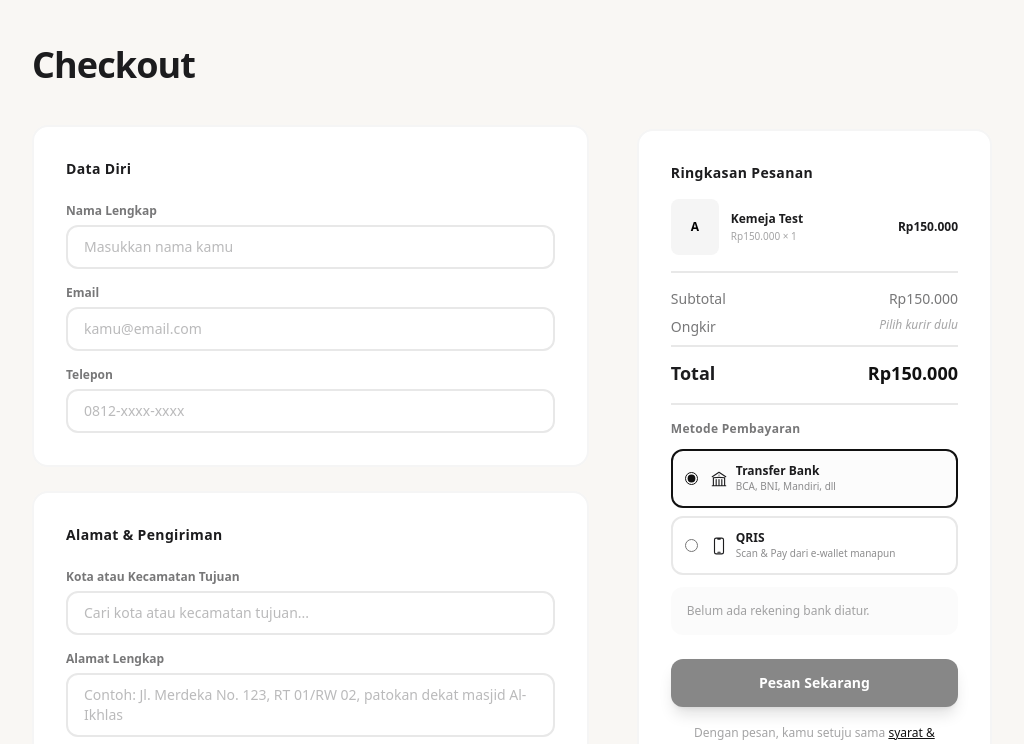
Test: CheckoutPage — Autocomplete Search › menampilkan tombol WhatsApp saat manual:true dari backend
The image size is (1024, 744).
Type "jakarta" into the field with placeholder "Cari kota atau kecamatan tujuan...".
click(310, 613); type("jakarta")  # box [66,591,555,635]
Wait 400 ms
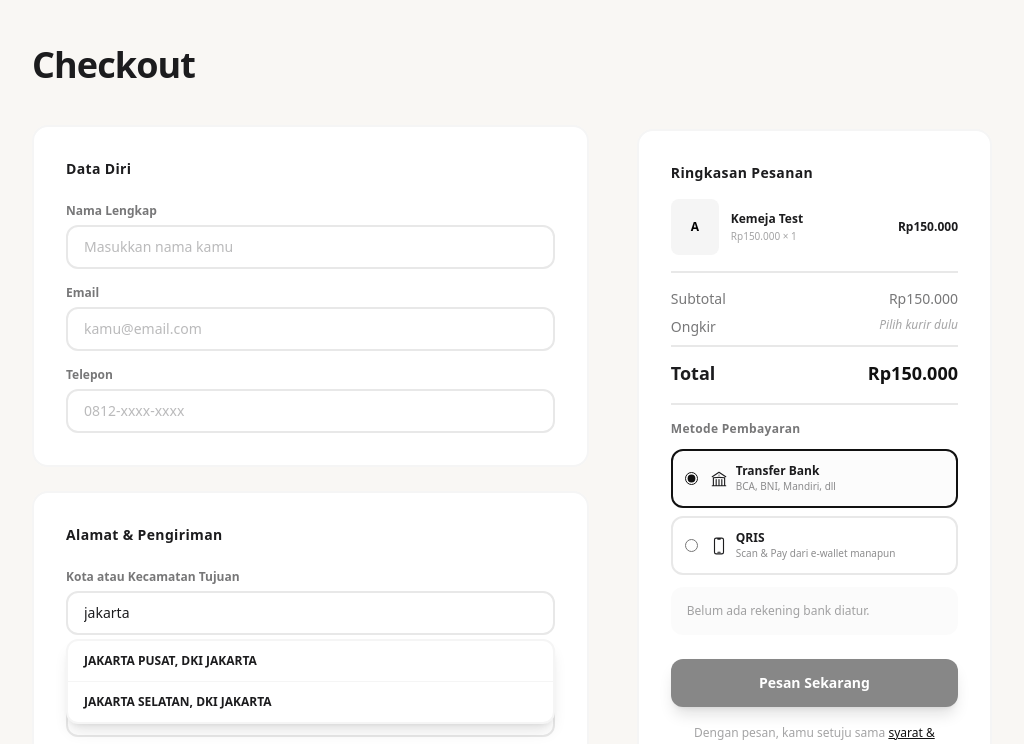
Click the button "JAKARTA PUSAT, DKI JAKARTA".
click(170, 660)  # box [68,641,553,682]
(page scrolled)
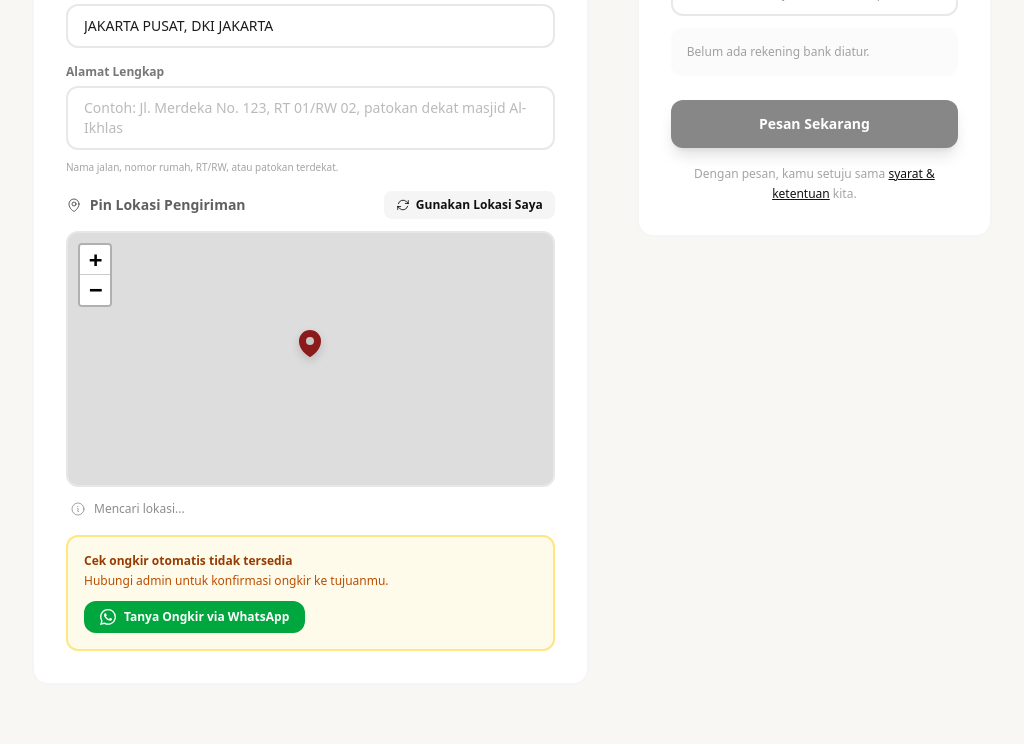
Expected: the text "Cek ongkir otomatis tidak tersedia" is shown, [84,552,292,568]
Expected: the text "Tanya Ongkir via WhatsApp" is shown, [84,600,305,632]
